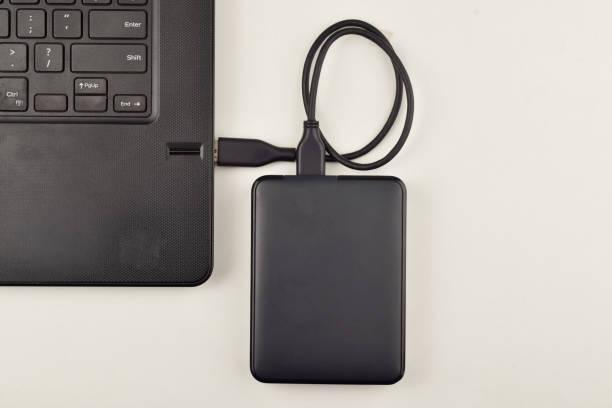HDD: (249, 175, 408, 385)
